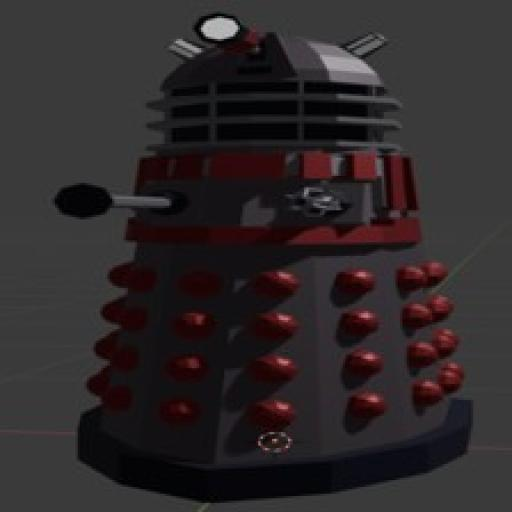dalek: (46, 12, 479, 503)
